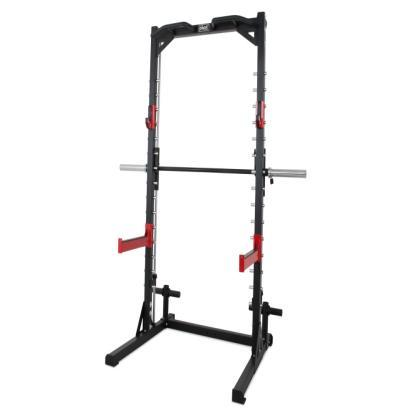smith machine: (104, 10, 307, 405)
